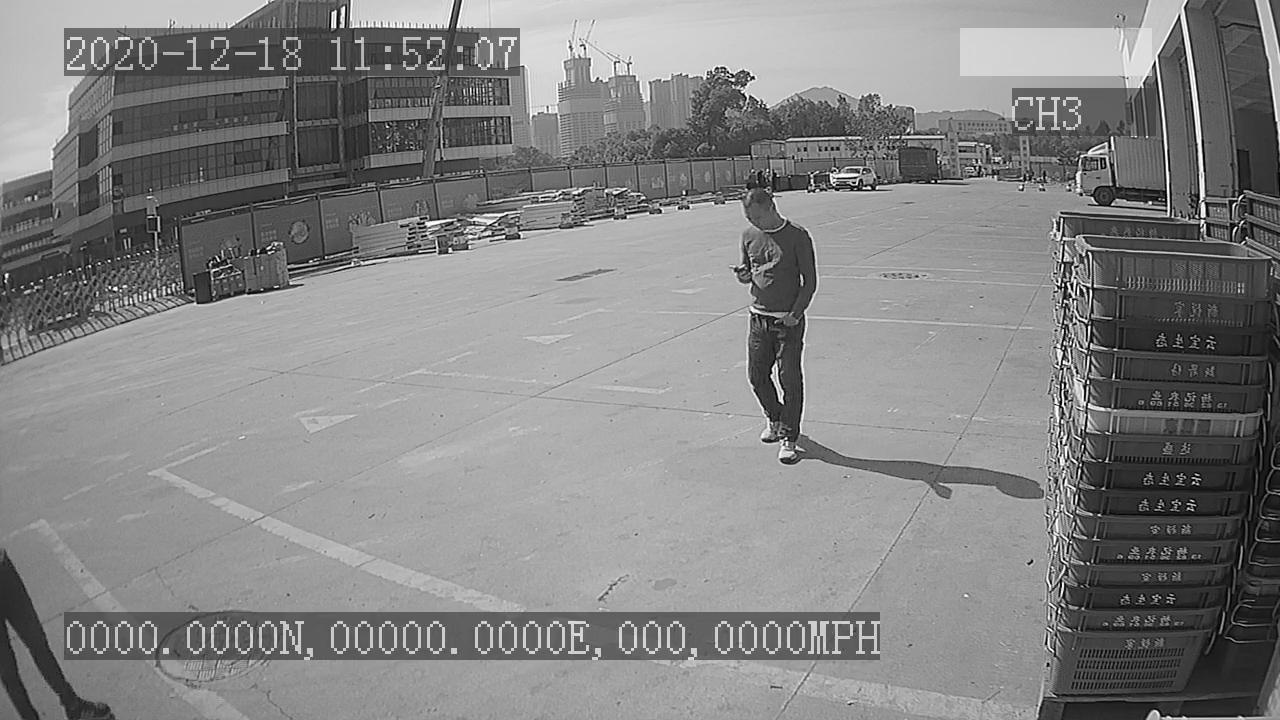person: (726, 181, 822, 469)
